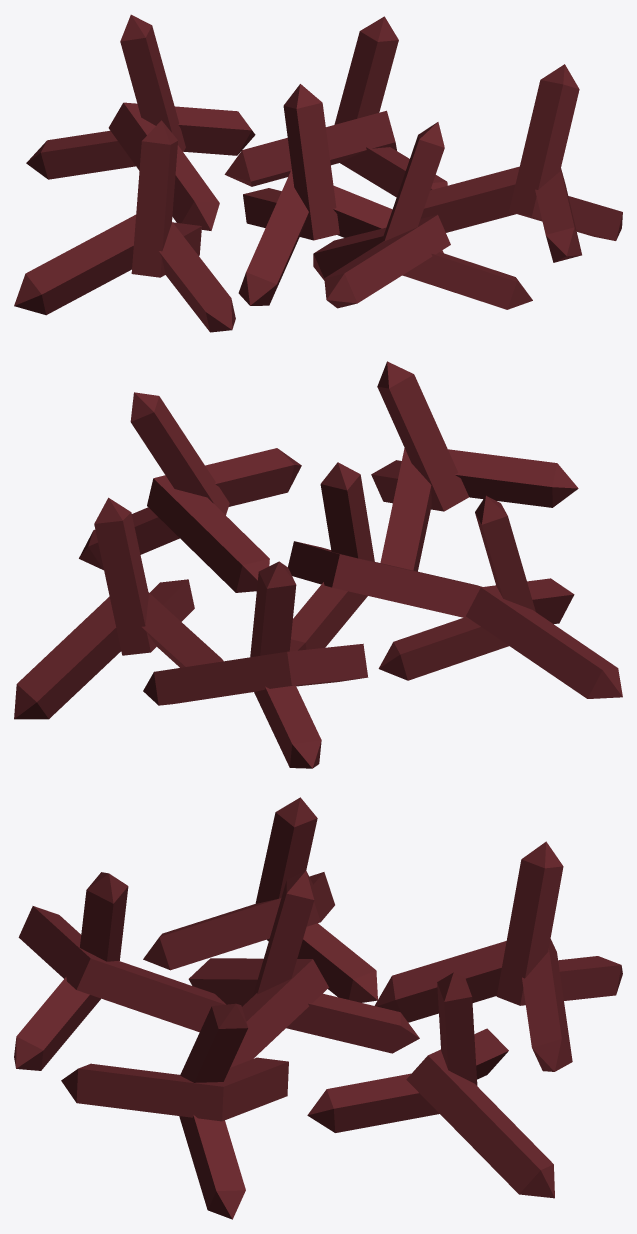
File: Spikes.fbx
3 renders of one model, top to bottom at view 1: azimuth 30°, elevation 25°; view 2: azimuth 150°, elevation 25°; view 3: azimuth 270°, elevation 25°, orthographic. The views are drawn at different scales.
Visible parts, largest first — view 1: Cube.004, Cube.006, Cube.002, Cube.007, Cube.003, Cube.008; view 2: Cube.007, Cube.004, Cube.008, Cube.002, Cube.006, Cube.003; view 3: Cube.006, Cube.008, Cube.007, Cube.002, Cube.003, Cube.004.
Part boxes in pixels (box(x1,y1,x2,y2)): Cube.004: box(14, 120, 235, 332); Cube.006: box(26, 14, 255, 230); Cube.002: box(313, 122, 532, 309); Cube.007: box(420, 64, 622, 262); Cube.003: box(238, 84, 443, 305); Cube.008: box(224, 16, 447, 197); Cube.007: box(79, 392, 301, 592); Cube.004: box(378, 495, 622, 698); Cube.008: box(14, 497, 223, 719); Cube.002: box(371, 361, 578, 571); Cube.006: box(143, 561, 368, 768); Cube.003: box(288, 462, 481, 651); Cube.006: box(374, 841, 622, 1071); Cube.008: box(307, 972, 554, 1198); Cube.007: box(61, 1003, 288, 1219); Cube.002: box(14, 872, 225, 1070); Cube.003: box(188, 871, 419, 1067); Cube.004: box(143, 797, 377, 1002).
Size of the model in its own units: 11320 by 4449 by 9899.
